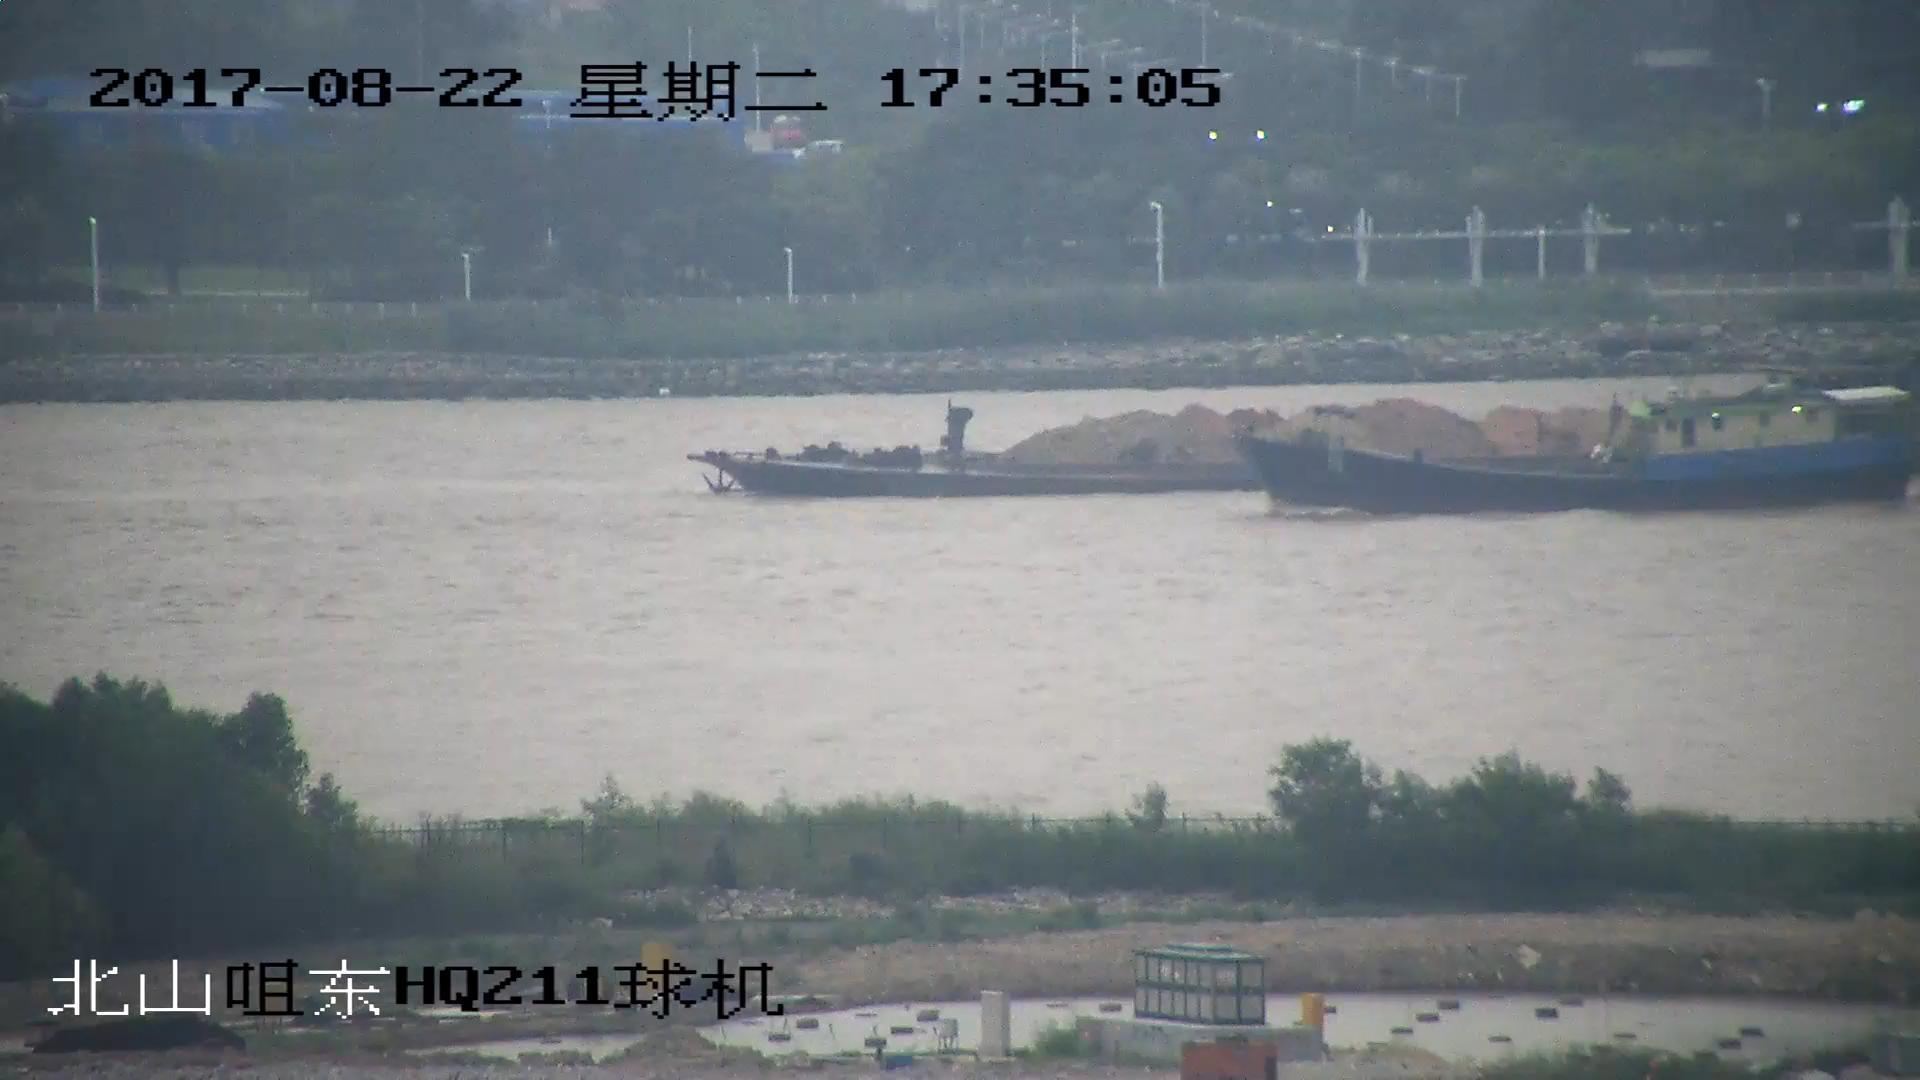Ship: (698, 385, 1920, 501), (1251, 389, 1920, 514)
